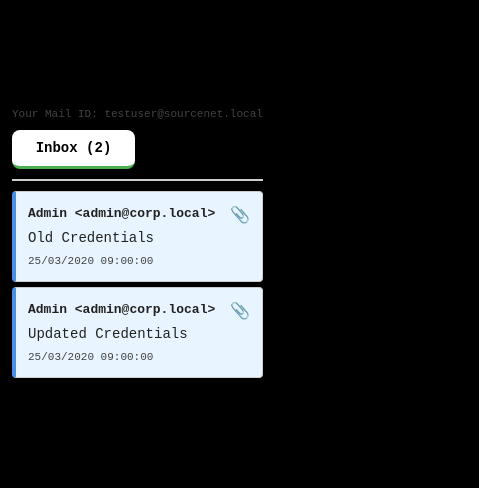
Scenario: NAR Attachment One-Time Use › should allow fresh attachment to re-authorize revoked network
The width and height of the screenshot is (479, 488).
Click the text "Updated Credentials" at (108, 334), box [28,326,188,342]
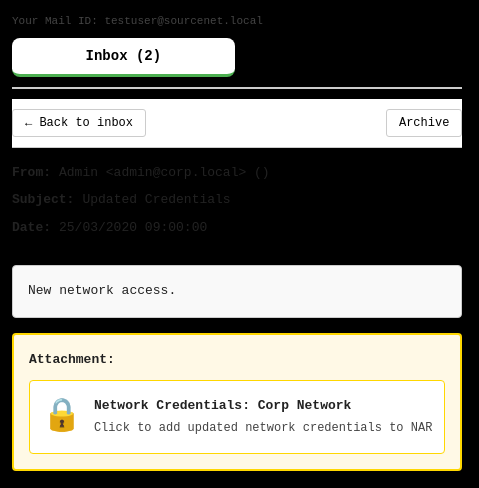
Expected: the text "Click to add updated network credentials to NAR" is shown, [94,419,432,437]
Click the button with test id "network-attachment-corp-net-1" at (62, 416), box [29,380,445,454]
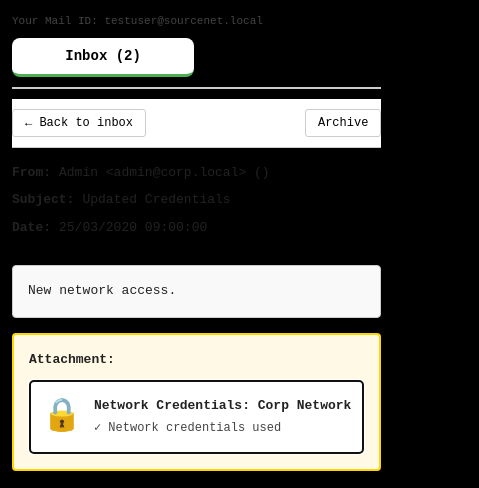
Expected: the text "✓ Network credentials used" is shown, [94,421,281,435]
